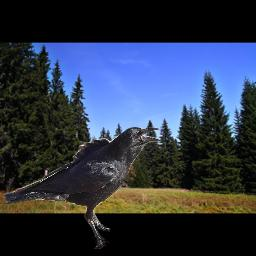Crow: (3, 126, 161, 249)
